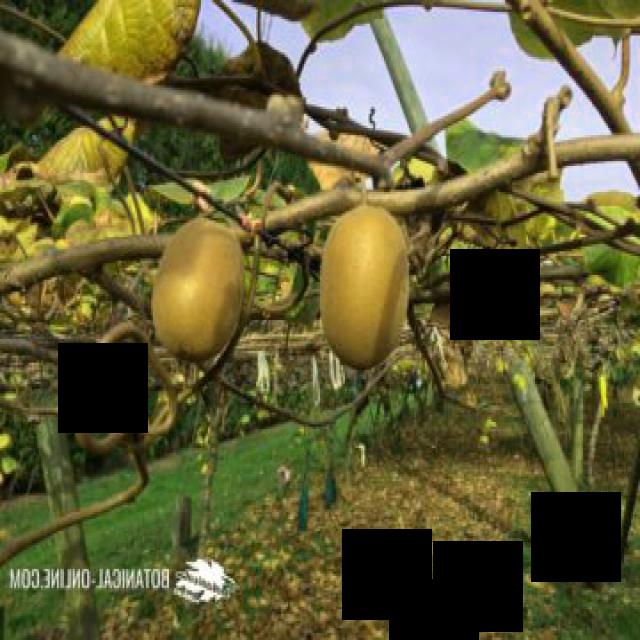kiwi: (320, 200, 414, 371), (154, 215, 250, 364)
